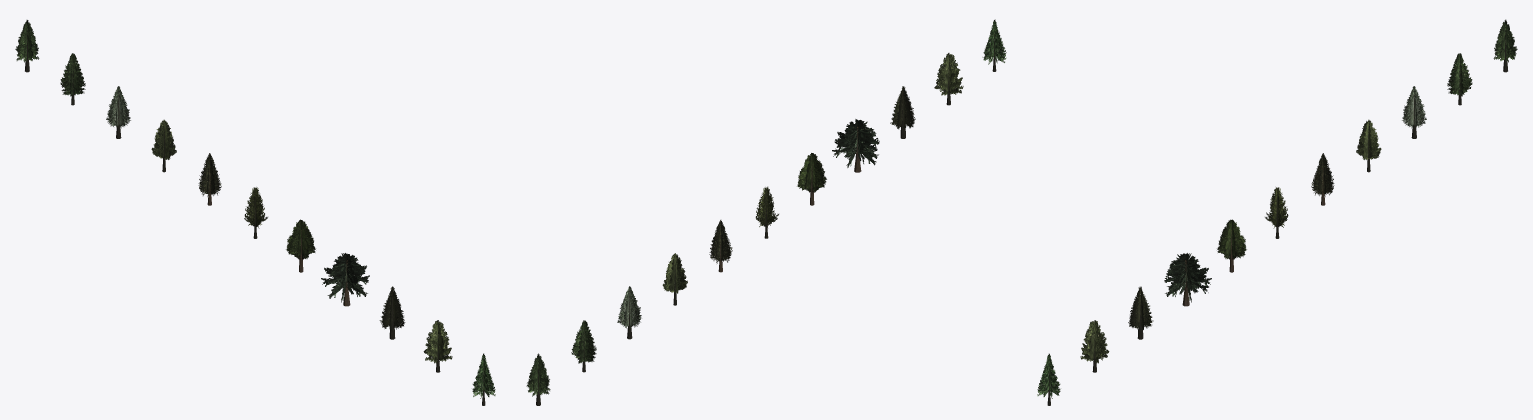
Rendered from conifer.glb.
3 views of the same model, side by side, from view 1: azimuth 30°, elevation 25°; view 2: azimuth 150°, elevation 25°; view 3: azimuth 330°, elevation 25° (orthographic).
Parts seen in each view (by area): view 1: tree14_lod0, tree11_lod0, tree08_lod0, tree07_lod0, tree05_lod0, tree06_lod0, tree04_lod0, tree09_lod0, tree12_lod0, tree01_lod0, tree10_lod0; view 2: tree14_lod0, tree08_lod0, tree11_lod0, tree07_lod0, tree05_lod0, tree09_lod0, tree06_lod0, tree04_lod0, tree12_lod0, tree10_lod0, tree01_lod0; view 3: tree14_lod0, tree08_lod0, tree11_lod0, tree07_lod0, tree05_lod0, tree04_lod0, tree06_lod0, tree09_lod0, tree12_lod0, tree01_lod0, tree10_lod0.
Boxes of the visible parts, <box> form: tree14_lod0: <box>321,253,369,306</box>; tree11_lod0: <box>423,320,452,372</box>; tree08_lod0: <box>286,219,315,272</box>; tree07_lod0: <box>60,53,85,105</box>; tree05_lod0: <box>379,286,405,339</box>; tree06_lod0: <box>106,86,130,138</box>; tree04_lod0: <box>151,119,176,172</box>; tree09_lod0: <box>15,20,39,72</box>; tree12_lod0: <box>198,153,221,205</box>; tree01_lod0: <box>244,187,267,238</box>; tree10_lod0: <box>472,353,495,405</box>; tree14_lod0: <box>832,119,879,172</box>; tree08_lod0: <box>797,153,826,205</box>; tree11_lod0: <box>934,53,963,105</box>; tree07_lod0: <box>571,320,596,372</box>; tree05_lod0: <box>890,86,915,138</box>; tree09_lod0: <box>526,353,550,405</box>; tree06_lod0: <box>617,286,641,339</box>; tree04_lod0: <box>662,253,687,305</box>; tree12_lod0: <box>709,220,732,272</box>; tree10_lod0: <box>982,19,1006,71</box>; tree01_lod0: <box>755,186,778,238</box>; tree14_lod0: <box>1164,253,1211,306</box>; tree08_lod0: <box>1217,219,1246,272</box>; tree11_lod0: <box>1080,320,1109,372</box>; tree07_lod0: <box>1447,53,1472,105</box>; tree05_lod0: <box>1128,286,1153,339</box>; tree04_lod0: <box>1356,119,1381,172</box>; tree06_lod0: <box>1402,86,1426,138</box>; tree09_lod0: <box>1493,19,1517,72</box>; tree12_lod0: <box>1311,153,1334,205</box>; tree01_lod0: <box>1265,187,1288,238</box>; tree10_lod0: <box>1037,353,1060,405</box>.
Size of what is drawn, in the model's own units: 12 by 12.5 by 206.
Materials: 11 (11 with a texture image).
